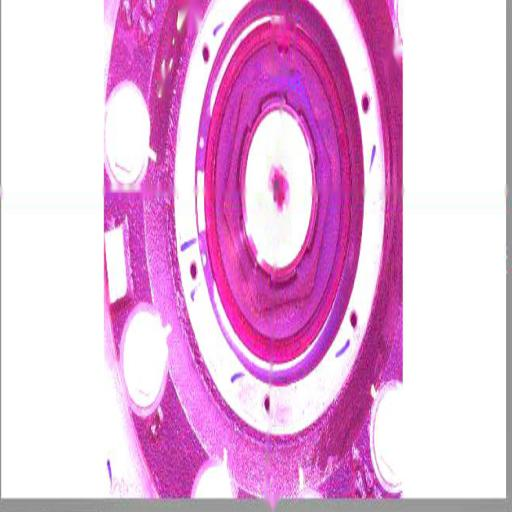center: (270, 172, 287, 214)
notch: (273, 41, 292, 62)
